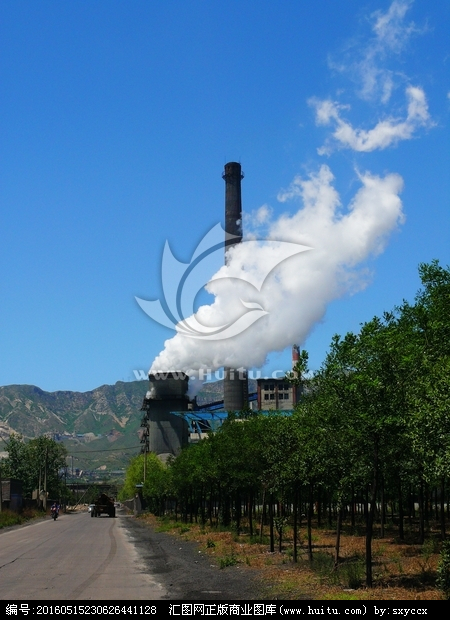dust: (133, 219, 356, 381)
